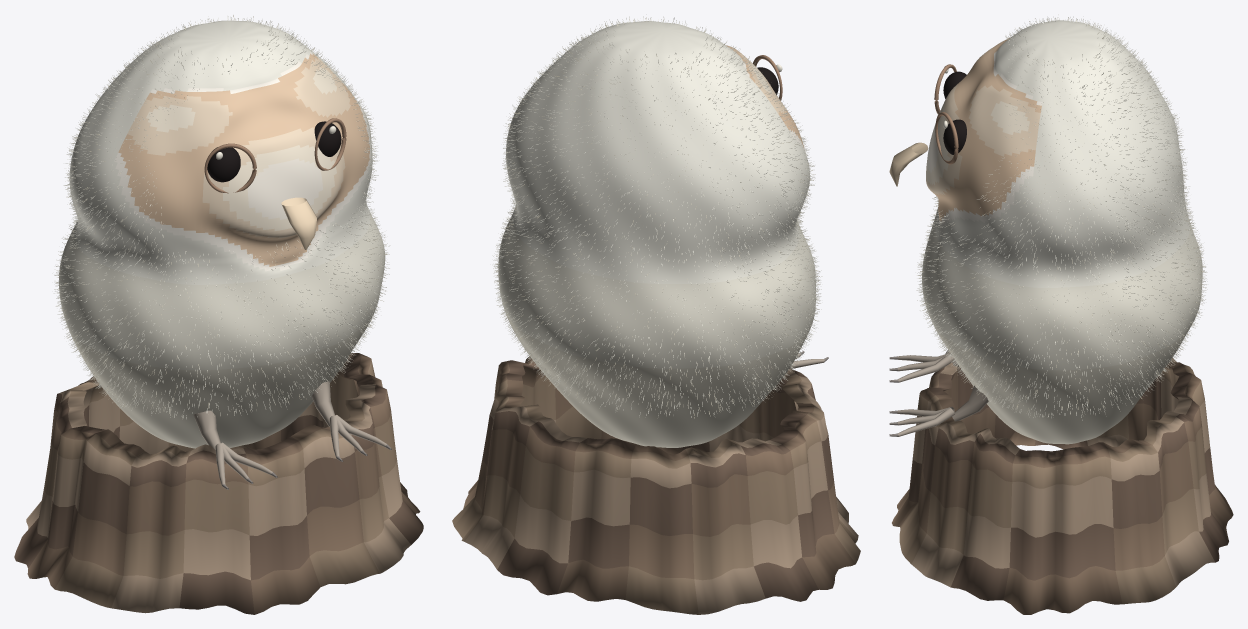
The model's file is run122_continuous_sculpt_silkdown_organic_juvenile_ART_UNAPPROVED.glb.
3 views of the same model, side by side, from view 1: azimuth 30°, elevation 25°; view 2: azimuth 150°, elevation 25°; view 3: azimuth 270°, elevation 25° (orthographic). The views are drawn at different scales.
Parts seen in each view (by area): view 1: ONE CONTINUOUS sculpted downy juvenile Tyto body and heart m, run122_deep_open_tree_hollow_walls_and_rim, run122_actual_soft_tapered_crossfilaments_not_image, small naturally curved horn beak, deep inset expressive glossy eye -1, deep inset expressive glossy eye 1, supported tarsus -1, supported tarsus 1, natural upper and lower eyelid -1; view 2: ONE CONTINUOUS sculpted downy juvenile Tyto body and heart m, run122_deep_open_tree_hollow_walls_and_rim, run122_actual_soft_tapered_crossfilaments_not_image; view 3: ONE CONTINUOUS sculpted downy juvenile Tyto body and heart m, run122_deep_open_tree_hollow_walls_and_rim, run122_actual_soft_tapered_crossfilaments_not_image, small naturally curved horn beak, supported tarsus 1, deep inset expressive glossy eye 1.
Boxes of the visible parts, x1,y1,x2,y2 form: ONE CONTINUOUS sculpted downy juvenile Tyto body and heart m: (59, 20, 385, 448); run122_deep_open_tree_hollow_walls_and_rim: (14, 353, 423, 614); run122_actual_soft_tapered_crossfilaments_not_image: (52, 15, 390, 418); small naturally curved horn beak: (281, 197, 316, 249); deep inset expressive glossy eye -1: (207, 147, 240, 182); deep inset expressive glossy eye 1: (314, 121, 341, 156); supported tarsus -1: (193, 410, 220, 449); supported tarsus 1: (311, 381, 334, 426); natural upper and lower eyelid -1: (204, 143, 256, 193); ONE CONTINUOUS sculpted downy juvenile Tyto body and heart m: (498, 21, 815, 447); run122_deep_open_tree_hollow_walls_and_rim: (452, 356, 860, 614); run122_actual_soft_tapered_crossfilaments_not_image: (492, 16, 822, 418); ONE CONTINUOUS sculpted downy juvenile Tyto body and heart m: (922, 20, 1202, 444); run122_deep_open_tree_hollow_walls_and_rim: (892, 350, 1233, 614); run122_actual_soft_tapered_crossfilaments_not_image: (916, 14, 1207, 420); small naturally curved horn beak: (889, 142, 928, 186); supported tarsus 1: (952, 385, 988, 421); deep inset expressive glossy eye 1: (943, 119, 966, 154).
Size of the model in its own units: 2.07 by 2.73 by 1.72.
